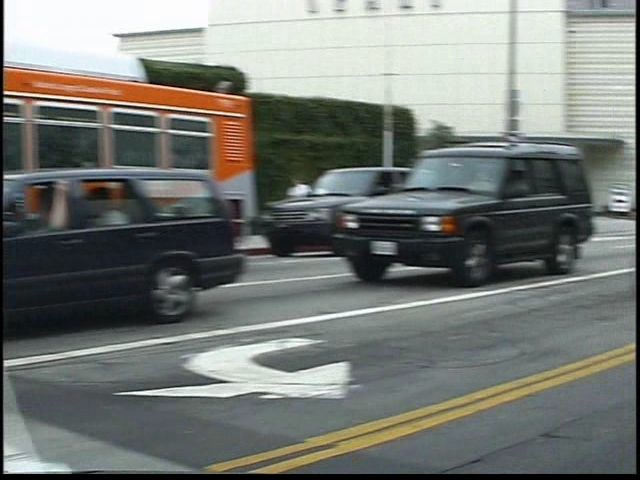person: (305, 175, 335, 243)
